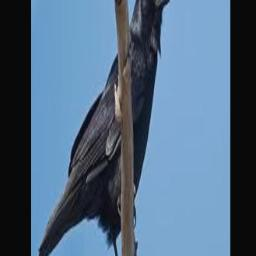Crow: (37, 0, 170, 256)
